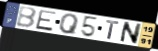5: (80, 15, 100, 38)
B: (15, 6, 38, 29)
E: (34, 9, 58, 32)
N: (119, 21, 143, 46)
Q: (59, 14, 80, 36)
T: (105, 19, 121, 41)
